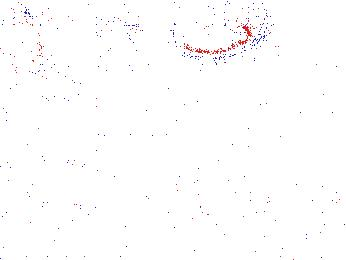moon jellyfish: (11, 4, 105, 89), (47, 19, 137, 103), (174, 1, 269, 59), (138, 8, 202, 70)
